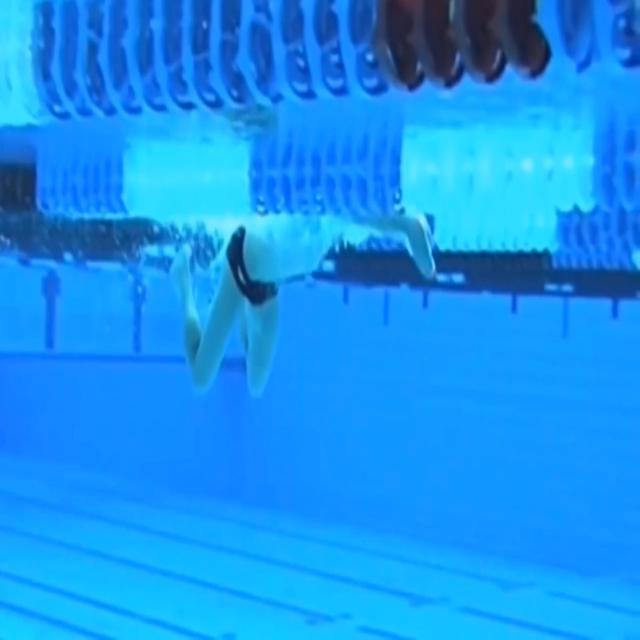Swimming: (169, 215, 435, 393)
